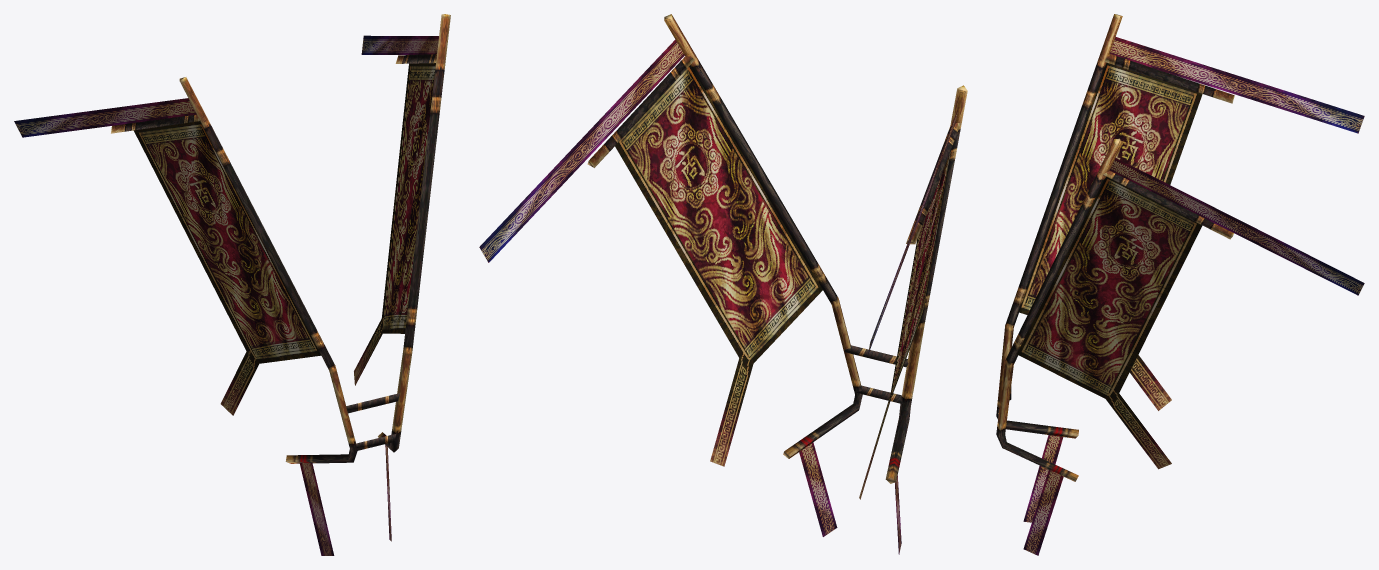
Rendered from trader_03.glb.
3 views of the same model, side by side, from view 1: azimuth 30°, elevation 25°; view 2: azimuth 150°, elevation 25°; view 3: azimuth 270°, elevation 25° (orthographic). The views are drawn at different scales.
Visible parts, largest first — view 1: trader_03; view 2: trader_03; view 3: trader_03.
Part boxes in pixels (box(x1,y1,x2,y2)): trader_03: box(14, 14, 450, 555); trader_03: box(479, 14, 967, 554); trader_03: box(996, 14, 1364, 555).
Bounding box in the file's own units: 0.9944 × 1.29 × 0.9264.
1 material, 1 textured.
